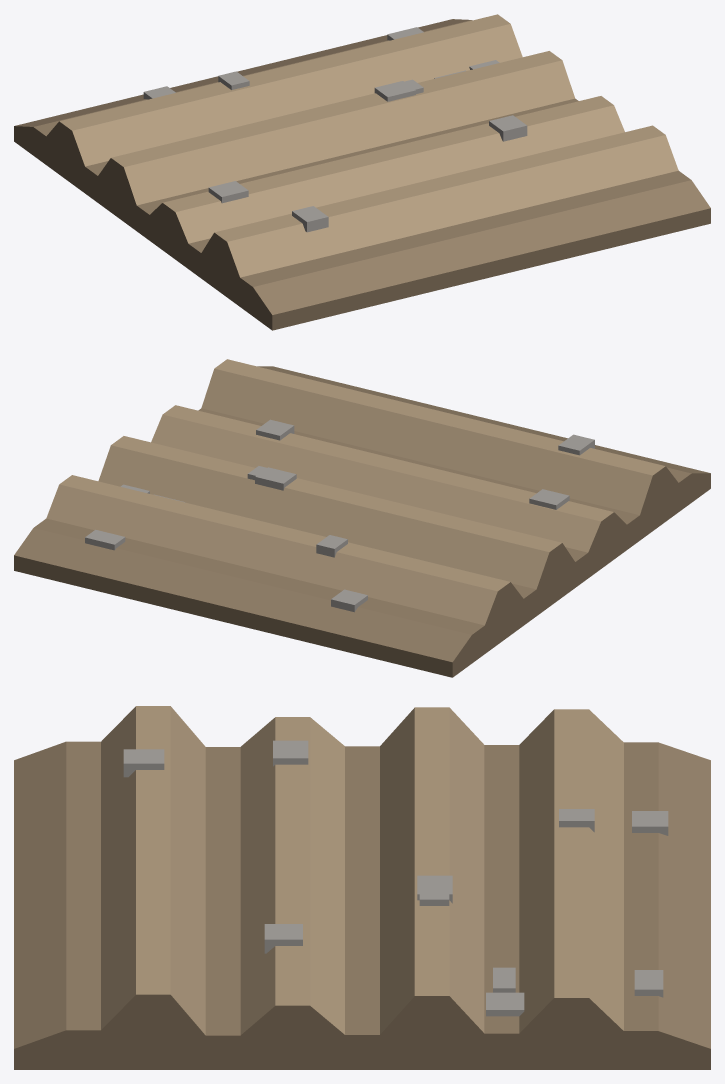
File: 33-Agricultura_tierra_arada.glb
3 renders of one model, top to bottom at view 1: azimuth 30°, elevation 25°; view 2: azimuth 150°, elevation 25°; view 3: azimuth 270°, elevation 25°, orthographic. The views are drawn at different scales.
Visible parts, largest first — view 1: SM_TierraArada_M_TierraArada_Cresta_TierraArada_Valle_Tierra; view 2: SM_TierraArada_M_TierraArada_Cresta_TierraArada_Valle_Tierra; view 3: SM_TierraArada_M_TierraArada_Cresta_TierraArada_Valle_Tierra.
Boxes of the visible parts, x1,y1,x2,y2 form: SM_TierraArada_M_TierraArada_Cresta_TierraArada_Valle_Tierra: (14,14,710,330); SM_TierraArada_M_TierraArada_Cresta_TierraArada_Valle_Tierra: (14,359,710,677); SM_TierraArada_M_TierraArada_Cresta_TierraArada_Valle_Tierra: (14,706,710,1069).
Size of the model in its own units: 0.98 by 0.1288 by 1.
